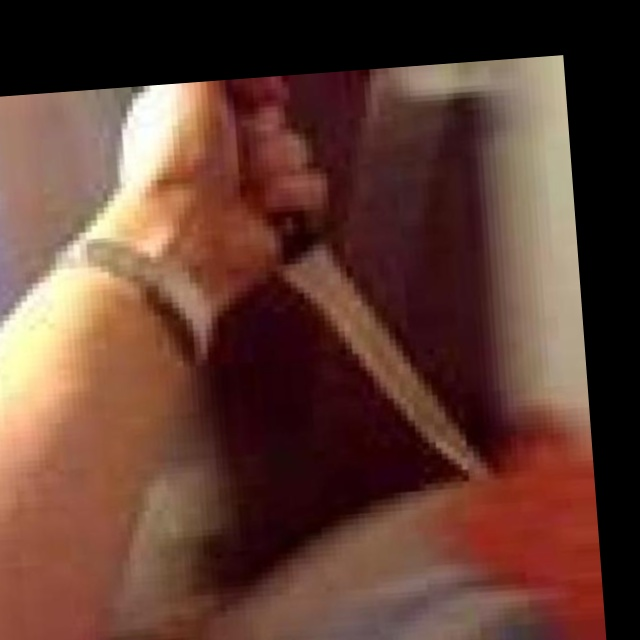Sharp-Object: (276, 205, 491, 501)
